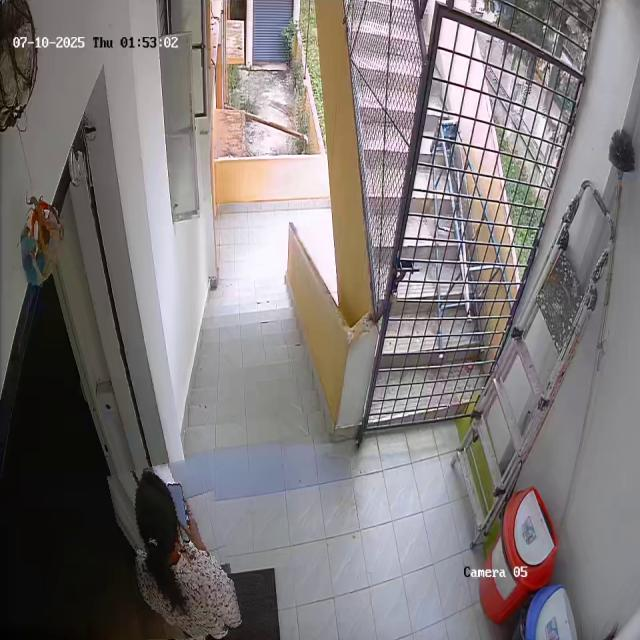person: (115, 459, 234, 640)
